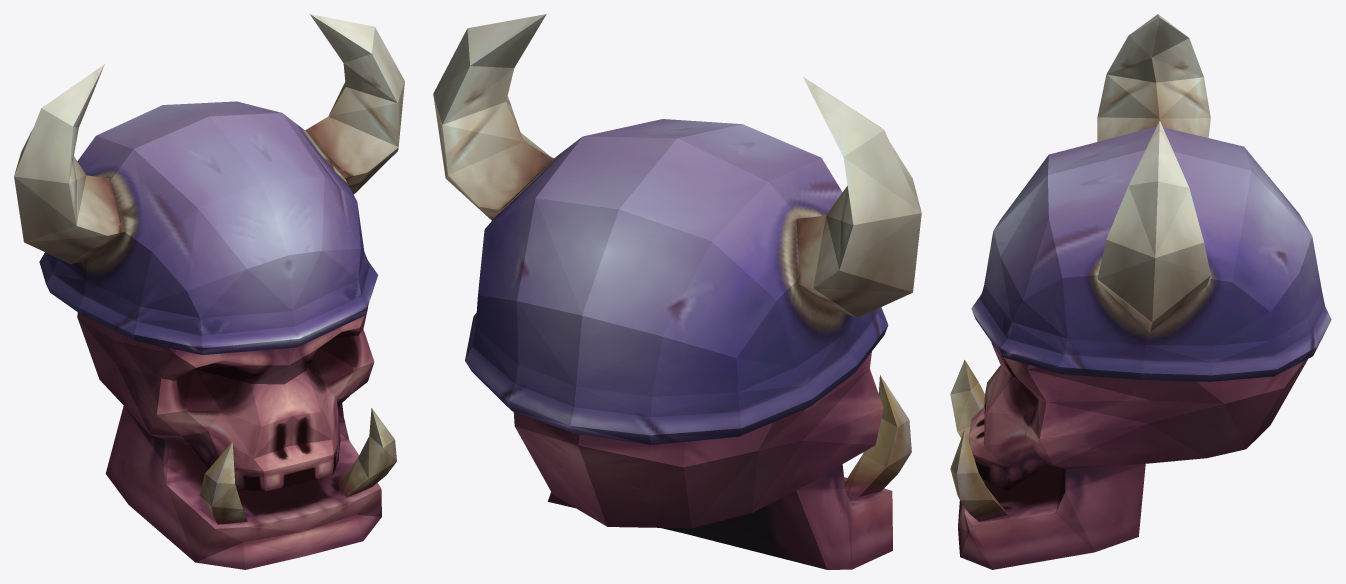
Rendered from Eff_OrcSkeleton_Skill01.FBX.
The picture shows the model from 3 angles, left to right: view 1: azimuth 30°, elevation 25°; view 2: azimuth 150°, elevation 25°; view 3: azimuth 270°, elevation 25°; orthographic projection. The views are drawn at different scales.
Visible parts, largest first — view 1: Object001; view 2: Object001; view 3: Object001.
Part boxes in pixels (left/top/right/bottom): Object001: left=14, top=14, right=404, bottom=569; Object001: left=433, top=14, right=921, bottom=569; Object001: left=950, top=14, right=1331, bottom=569.
Size of the model in its own units: 0.7615 by 0.8292 by 0.6253.
